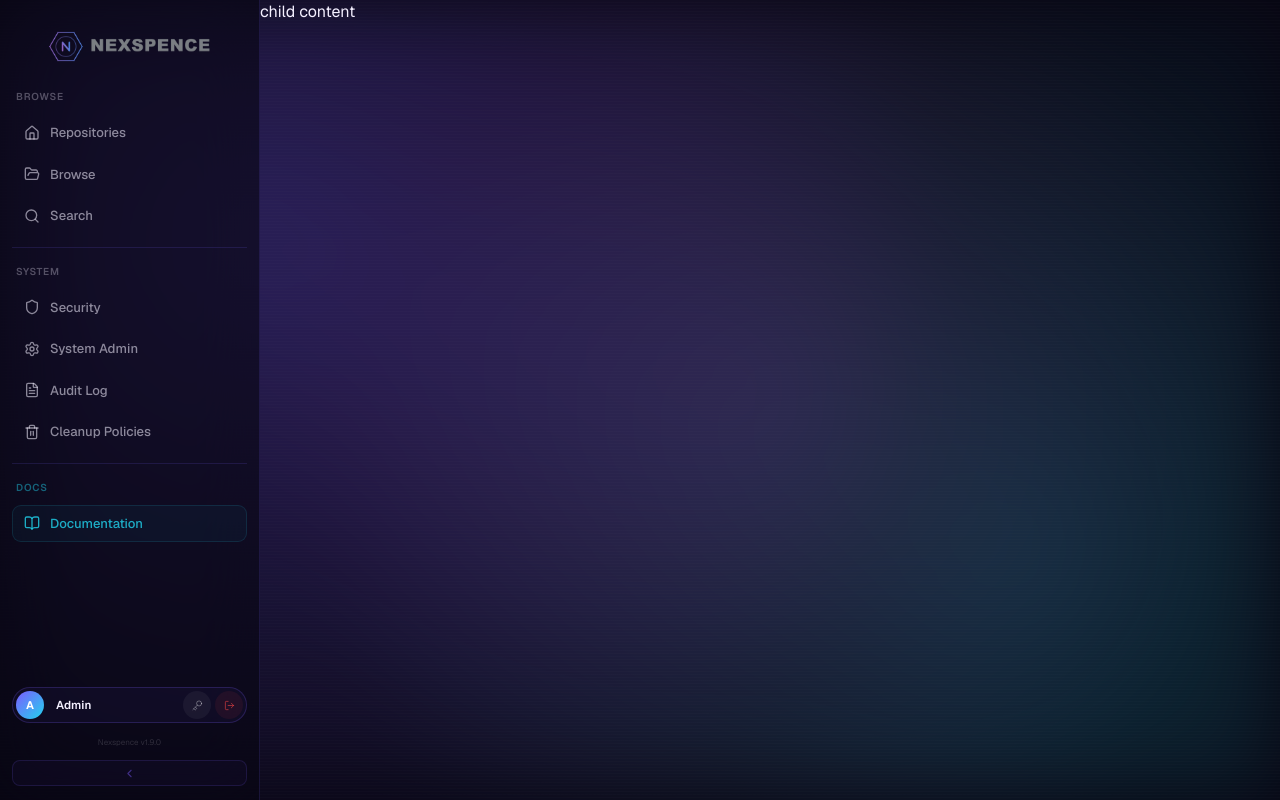
Scenario: Layout ProfileModal token management › validates expiry over the maximum
Click the button titled "API Tokens & Profile" at (197, 705), box [183,691,211,719]
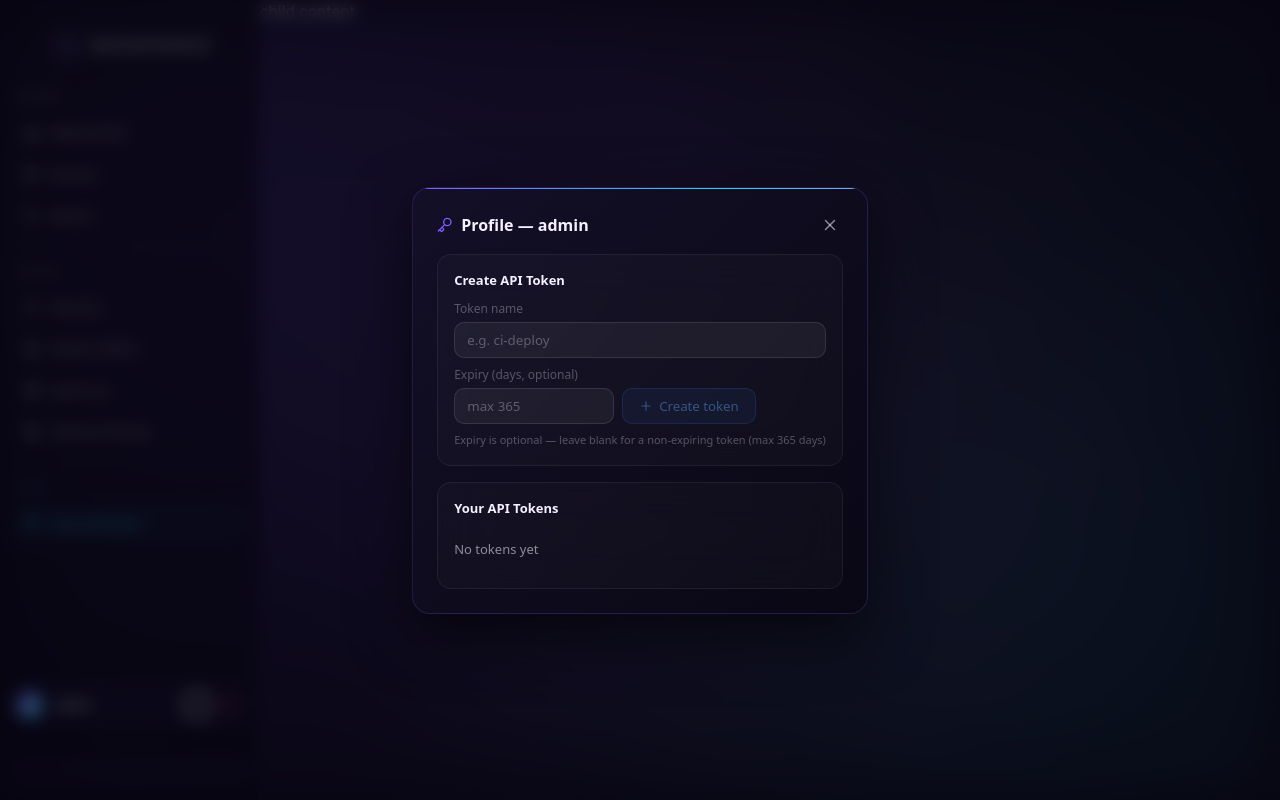
Expected: the text "Create API Token" is shown, [454,270,565,288]
Type "mytoken" into the field labelled "Token name" at (640, 340), box [454,322,826,358]
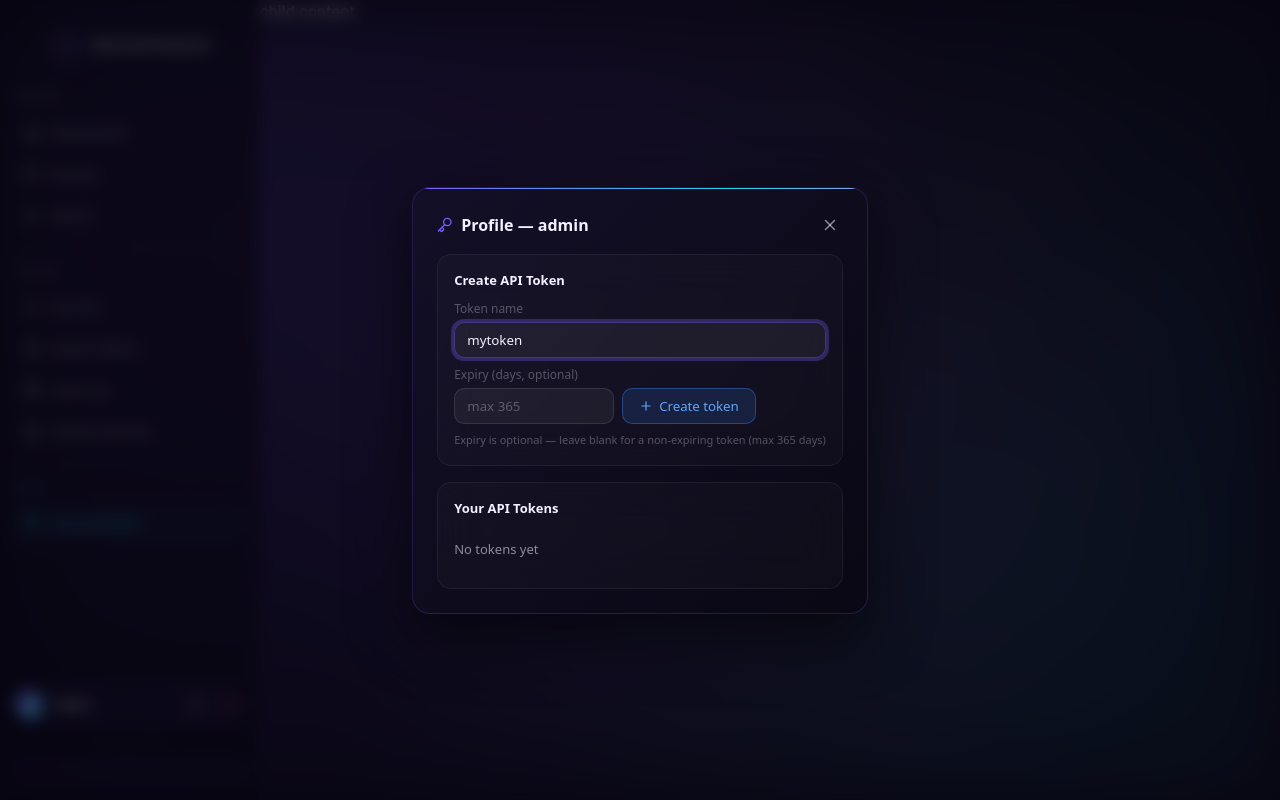
Type "9999" into the number field labelled "Expiry (days, optional)" at (534, 406), box [454,388,614,424]
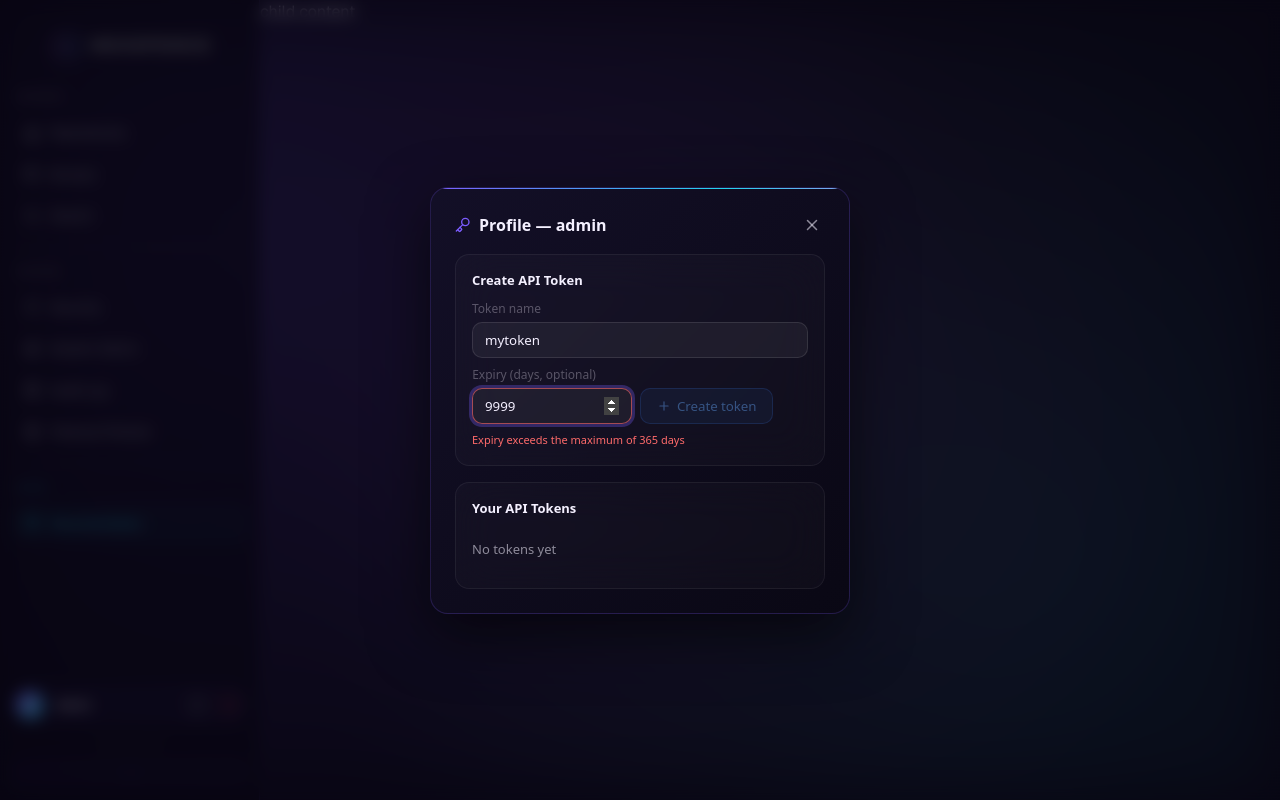
Expected: the text "Expiry exceeds the maximum of 365 days" is shown, [472,432,685,447]
Expected: the button "Create token" is disabled, [640,388,773,424]
